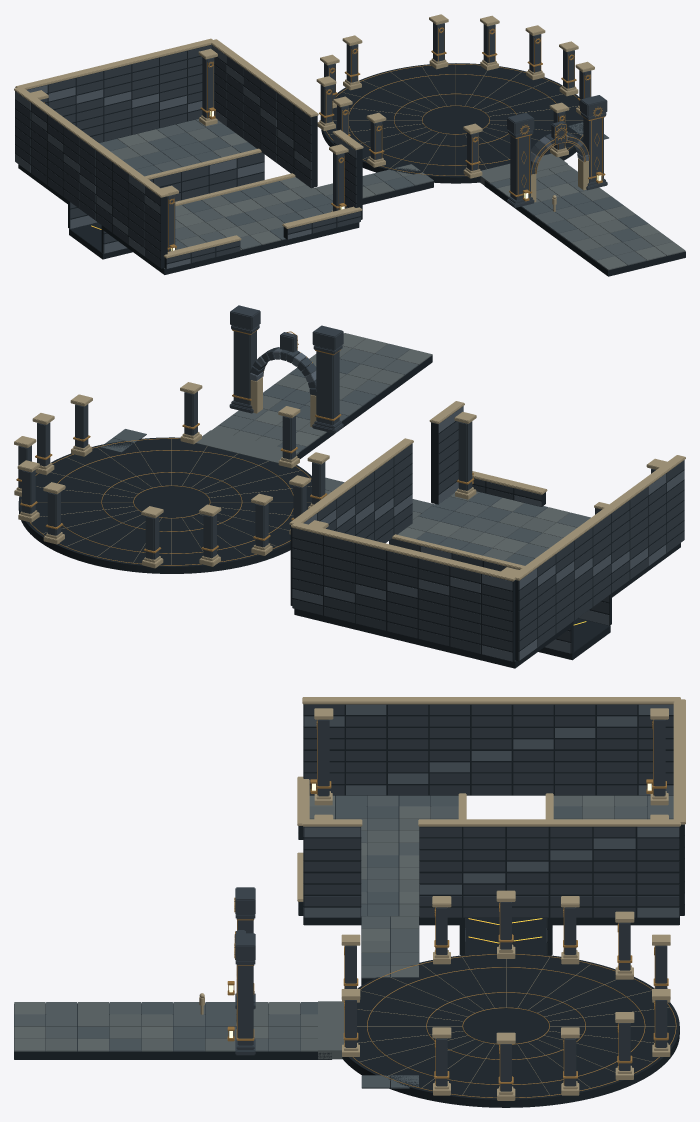
Rendered from fracture-static-v01.glb.
3 renders of one model, top to bottom at view 1: azimuth 30°, elevation 25°; view 2: azimuth 150°, elevation 25°; view 3: azimuth 270°, elevation 25°, orthographic. The views are drawn at different scales.
Parts seen in each view (by area): view 1: Fracture Basalt • charcoal, Fracture Recesses and grout, Fracture Ash stone • warm trim, Fracture Floor stone 3, Fracture Floor stone 1, Fracture Basalt • blue grey bevels, Fracture Floor stone 0, Fracture Bronze • forged warm, Fracture Floor stone 2; view 2: Fracture Basalt • charcoal, Fracture Recesses and grout, Fracture Ash stone • warm trim, Fracture Basalt • blue grey bevels, Fracture Floor stone 1, Fracture Floor stone 3, Fracture Floor stone 0, Fracture Floor stone 2, Fracture Bronze • forged warm; view 3: Fracture Basalt • charcoal, Fracture Recesses and grout, Fracture Ash stone • warm trim, Fracture Floor stone 1, Fracture Floor stone 0, Fracture Basalt • blue grey bevels, Fracture Floor stone 3, Fracture Floor stone 2, Fracture Bronze • forged warm.
Part boxes in pixels (x1,y1,x2,y2): Fracture Basalt • charcoal: (15,23,607,267); Fracture Recesses and grout: (15,45,685,276); Fracture Ash stone • warm trim: (14,14,594,258); Fracture Floor stone 3: (99,122,648,249); Fracture Floor stone 1: (110,128,673,251); Fracture Basalt • blue grey bevels: (15,45,589,268); Fracture Floor stone 0: (154,119,653,265); Fracture Bronze • forged warm: (44,26,605,251); Fracture Floor stone 2: (117,129,685,270); Fracture Basalt • charcoal: (18,305,684,653); Fracture Recesses and grout: (18,355,684,668); Fracture Ash stone • warm trim: (14,377,685,581); Fracture Basalt • blue grey bevels: (249,347,684,661); Fracture Floor stone 1: (196,346,562,560); Fracture Floor stone 3: (101,359,547,565); Fracture Floor stone 0: (219,343,590,661); Fracture Floor stone 2: (255,333,576,553); Fracture Bronze • forged warm: (16,329,474,565); Fracture Basalt • charcoal: (235,704,684,1091); Fracture Recesses and grout: (14,704,684,1107); Fracture Ash stone • warm trim: (199,697,685,1100); Fracture Floor stone 1: (46,795,646,1059); Fracture Floor stone 0: (14,795,673,1051); Fracture Basalt • blue grey bevels: (303,704,684,941); Fracture Floor stone 3: (78,795,673,1088); Fracture Floor stone 2: (14,795,614,1051); Fracture Bronze • forged warm: (227,719,676,1098).
Size of the model in its own units: 50.67 by 12.02 by 46.43.
